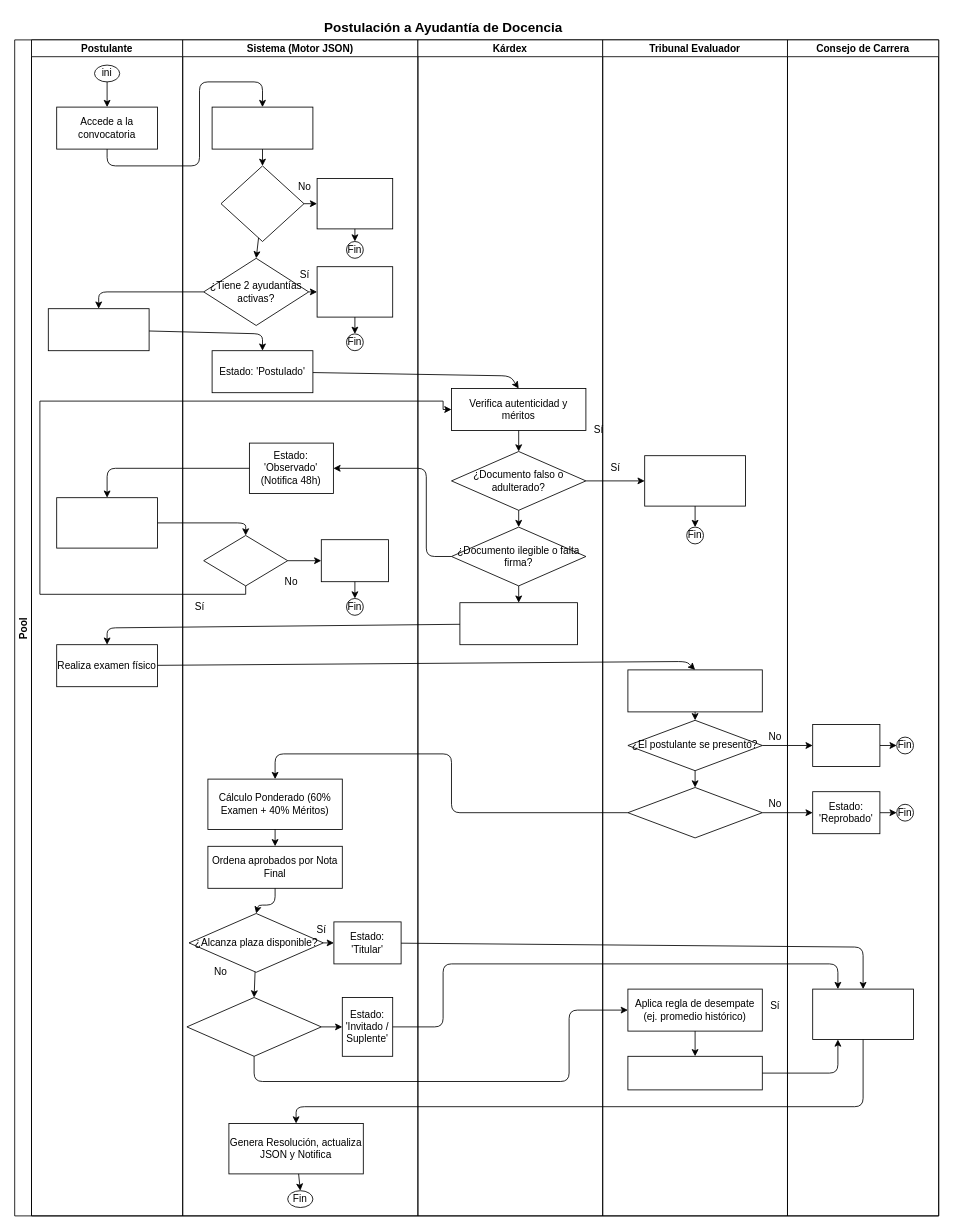
Image size: 953x1231. Some labels were removed from this diagram. Each missing label, with the centre of its shape:
Bloqueo Automático: (354,203)
Bloqueo Límite Carga: (354,291)
Corrige y sube PDF: (107,522)
Decide Ganador: (694,1072)
Estado: 'Abandono': (354,560)
Estado: 'NSP': (846,745)
Habilitado para Examen: (518,623)
Ingresa notas al sistema: (694,690)
Leer perfil del estudiante: (262,127)
Llena formulario y sube PDF: (98,329)
Rechazado (Proc. Disciplinario): (695,480)
Revisa acta y Homologa Resultados: (863,1014)
¿Corrige a tiempo?: (245,560)
¿Empate exacto en última plaza?: (253,1026)
¿Nota examen ≥ 51?: (694,812)
¿Nota sobresaliente (≥ 51 o 60)?: (262,203)
